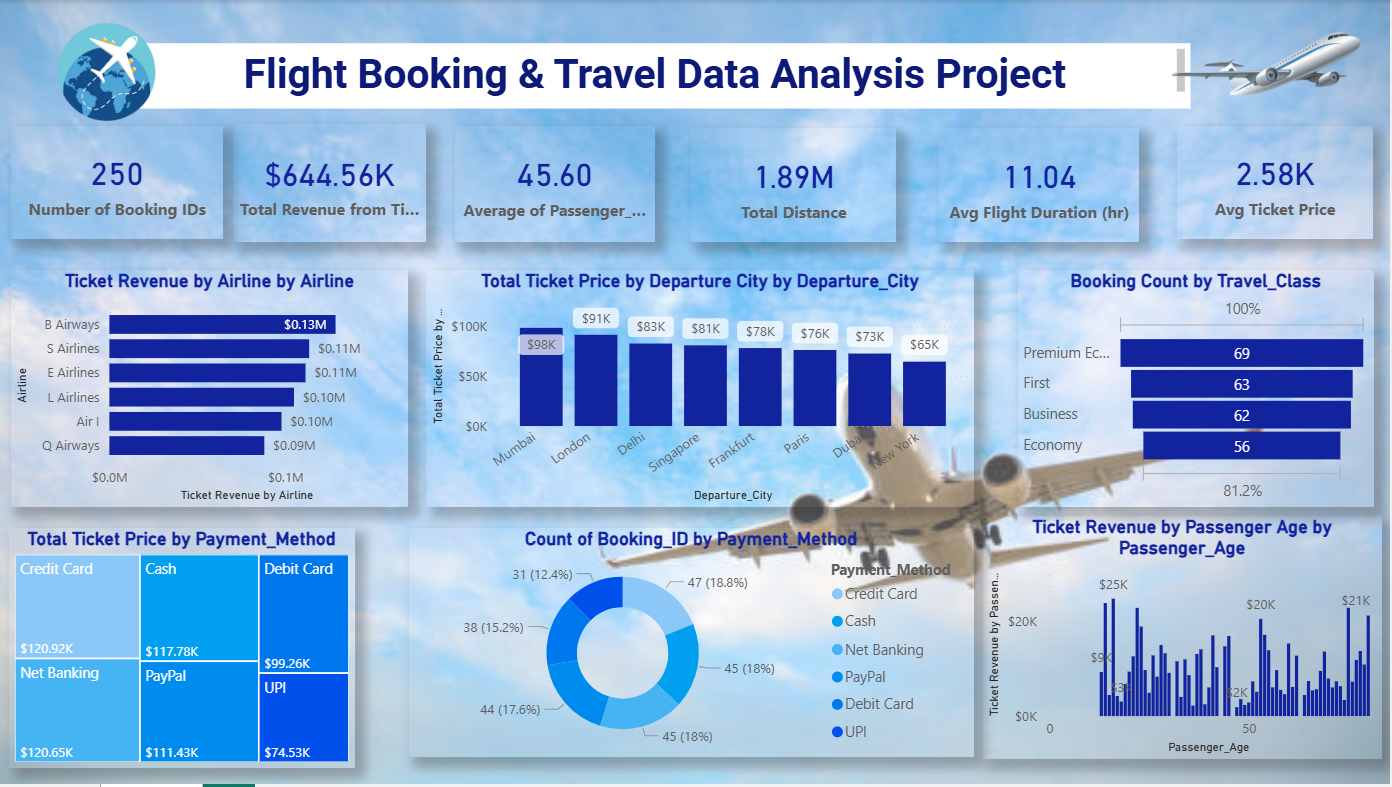

Layout of this report page (visuals, bound fields, positions):
{"tool":"powerbi","page":{"name":"Page 1","canvas":[1280,720],"ordinal":0},"visuals":[{"type":"textbox","box":[129.1,38.8,966.7,60],"z":0,"group":"g2"},{"type":"image","box":[1056.5,27.1,215.7,86.3],"z":1000,"group":"g2"},{"type":"image","box":[0,18.3,201.5,95.1],"z":2000,"group":"g2"},{"type":"card","fields":{"Values":["Count(flight_bookings_sample (2).Booking_ID)"]},"box":[11.8,115.2,195.2,104.8],"z":3000,"group":"g2"},{"type":"card","fields":{"Values":["Sum(flight_bookings_sample (2).Ticket_Price)"]},"box":[217,113.7,176.7,107.9],"z":4000,"group":"g1"},{"type":"clusteredBarChart","fields":{"Category":["flight_bookings_sample (2).Airline"],"Y":["Sum(flight_bookings_sample (2).Ticket_Price)"]},"box":[12.1,247.2,365.5,217.6],"z":4000,"group":"g2"},{"type":"card","fields":{"Values":["Avg(flight_bookings_sample (2).Passenger_Age)"]},"box":[420.6,115.3,183.4,106.3],"z":5000,"group":"g1"},{"type":"lineClusteredColumnComboChart","fields":{"Y":["Sum(flight_bookings_sample (2).Ticket_Price)"],"Category":["flight_bookings_sample (2).Departure_City"]},"box":[393.7,247.2,502.7,217.6],"z":5000,"group":"g2"},{"type":"card","fields":{"Values":["Sum(flight_bookings_sample (2).Distance_km)"]},"box":[637.6,116.8,188.4,104.8],"z":6000,"group":"g1"},{"type":"funnel","fields":{"Category":["flight_bookings_sample (2).Travel_Class"],"Y":["CountNonNull(flight_bookings_sample (2).Booking_ID)"]},"box":[936.8,247.2,327.1,217.6],"z":6000,"group":"g2"},{"type":"group","id":"g1","title":"Group 1","box":[217,113.7,1046.5,107.9],"z":7000,"group":"g2"},{"type":"card","fields":{"Values":["Avg(flight_bookings_sample (2).Flight_Duration_hr)"]},"box":[864.8,116.8,183.4,104.8],"z":7000,"group":"g1"},{"type":"card","fields":{"Values":["flight_bookings_sample (2).Avg tciket price Measure"]},"box":[1083.5,115.3,180,104.8],"z":8000,"group":"g1"},{"type":"treemap","fields":{"Group":["flight_bookings_sample (2).Payment_Method"],"Values":["Sum(flight_bookings_sample (2).Ticket_Price)"]},"box":[11.7,484.4,316.7,220],"z":8000,"group":"g2"},{"type":"donutChart","fields":{"Category":["flight_bookings_sample (2).Payment_Method"],"Y":["CountNonNull(flight_bookings_sample (2).Booking_ID)"]},"box":[378.3,484.4,518.3,210],"z":9000,"group":"g2"},{"type":"columnChart","fields":{"Category":["flight_bookings_sample (2).Passenger_Age"],"Y":["Sum(flight_bookings_sample (2).Ticket_Price)"]},"box":[905,472.7,366.7,223.3],"z":10000,"group":"g2"},{"type":"group","id":"g2","title":"Group 2","box":[0,18.3,1272.2,686.1],"z":10001}]}

Visuals, with their boxes in screenshot pixels (x1, y1, x2, y2), scaled from the page's 1280x720 canvas onto the 1392x787 screenshot:
textbox: [140, 42, 1192, 108]
image: [1149, 30, 1384, 124]
image: [0, 20, 219, 124]
card - Count(flight_bookings_sample (2).Booking_ID): [13, 126, 225, 240]
card - Sum(flight_bookings_sample (2).Ticket_Price): [236, 124, 428, 242]
clusteredBarChart - flight_bookings_sample (2).Airline x Sum(flight_bookings_sample (2).Ticket_Price): [13, 270, 411, 508]
card - Avg(flight_bookings_sample (2).Passenger_Age): [457, 126, 657, 242]
lineClusteredColumnComboChart - Sum(flight_bookings_sample (2).Ticket_Price) x flight_bookings_sample (2).Departure_City: [428, 270, 975, 508]
card - Sum(flight_bookings_sample (2).Distance_km): [693, 128, 898, 242]
funnel - flight_bookings_sample (2).Travel_Class x CountNonNull(flight_bookings_sample (2).Booking_ID): [1019, 270, 1374, 508]
"Group 1" group: [236, 124, 1374, 242]
card - Avg(flight_bookings_sample (2).Flight_Duration_hr): [940, 128, 1140, 242]
card - flight_bookings_sample (2).Avg tciket price Measure: [1178, 126, 1374, 241]
treemap - flight_bookings_sample (2).Payment_Method x Sum(flight_bookings_sample (2).Ticket_Price): [13, 529, 357, 770]
donutChart - flight_bookings_sample (2).Payment_Method x CountNonNull(flight_bookings_sample (2).Booking_ID): [411, 529, 975, 759]
columnChart - flight_bookings_sample (2).Passenger_Age x Sum(flight_bookings_sample (2).Ticket_Price): [984, 517, 1383, 761]
"Group 2" group: [0, 20, 1384, 770]
